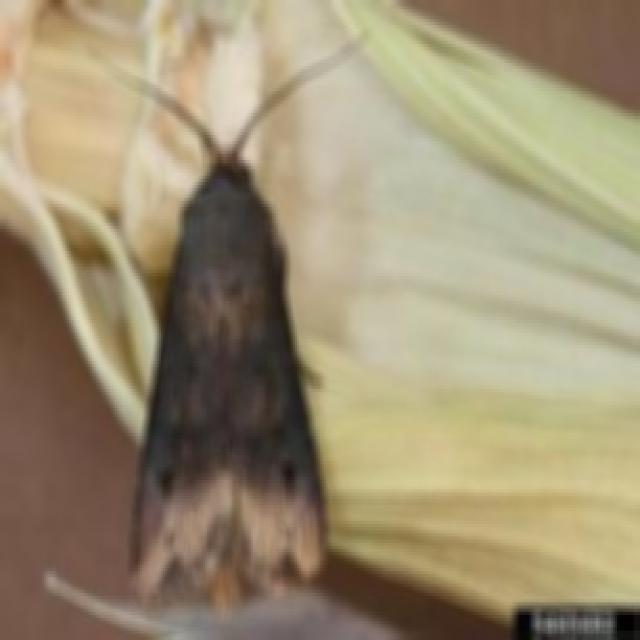black cutworm: (130, 87, 354, 605)
